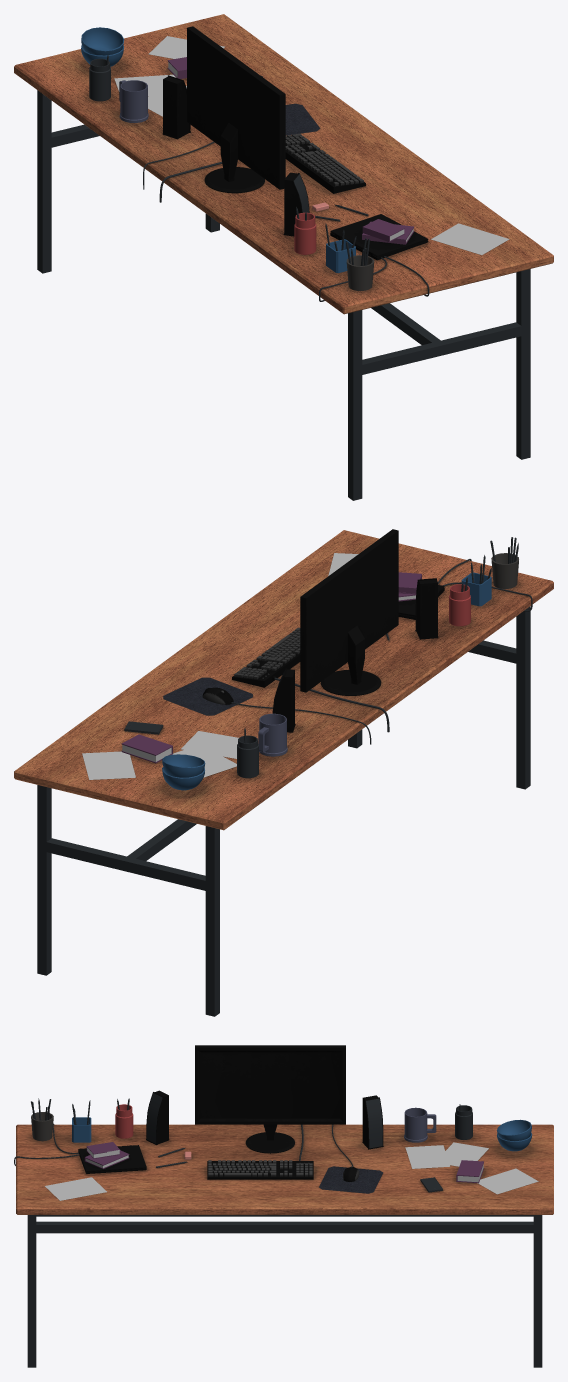
File: desk.dae
3 views of the same model, one above another, from view 1: azimuth 30°, elevation 25°; view 2: azimuth 150°, elevation 25°; view 3: azimuth 270°, elevation 25° (orthographic). The views are drawn at different scales.
Parts seen in each view (by area): view 1: Desk, Object001, PC_Monitor, Paper, PC_Speaker, PC_Keyboard, Notebook, Dish, Books, Object002, Object004, Object005 (+5 smaller); view 2: Desk, Object001, PC_Monitor, Paper, PC_Speaker, Mousepad, PC_Keyboard, Dish, Books, Object002, Object005, Object004 (+3 smaller); view 3: Desk, PC_Monitor, Object001, Paper, PC_Keyboard, Object007, Mousepad, Object009, PC_Speaker, Books, Notebook, Dish (+7 smaller).
Part boxes in pixels (bbox=[...]): Desk: bbox=[14, 14, 553, 314]; Object001: bbox=[37, 90, 530, 500]; PC_Monitor: bbox=[187, 26, 285, 193]; Paper: bbox=[114, 36, 509, 254]; PC_Speaker: bbox=[162, 75, 309, 236]; PC_Keyboard: bbox=[285, 133, 363, 186]; Notebook: bbox=[330, 214, 428, 260]; Dish: bbox=[81, 27, 124, 66]; Books: bbox=[167, 57, 414, 244]; Object002: bbox=[119, 80, 148, 122]; Object004: bbox=[294, 212, 316, 254]; Object005: bbox=[89, 58, 110, 101]; Desk: bbox=[14, 530, 553, 830]; Object001: bbox=[37, 606, 530, 1016]; PC_Monitor: bbox=[300, 529, 398, 695]; Paper: bbox=[82, 553, 358, 779]; PC_Speaker: bbox=[272, 578, 438, 732]; Mousepad: bbox=[163, 677, 252, 715]; PC_Keyboard: bbox=[234, 627, 300, 679]; Dish: bbox=[162, 754, 205, 790]; Books: bbox=[121, 572, 421, 763]; Object002: bbox=[258, 713, 287, 756]; Object005: bbox=[237, 735, 258, 778]; Object004: bbox=[449, 584, 470, 626]; Desk: bbox=[16, 1124, 553, 1214]; PC_Monitor: bbox=[195, 1045, 345, 1153]; Object001: bbox=[27, 1215, 542, 1367]; Paper: bbox=[45, 1142, 538, 1200]; PC_Keyboard: bbox=[208, 1160, 312, 1176]; Object007: bbox=[146, 1093, 382, 1148]; Mousepad: bbox=[319, 1166, 383, 1193]; Object009: bbox=[207, 1161, 313, 1179]; PC_Speaker: bbox=[146, 1090, 383, 1149]; Books: bbox=[84, 1142, 483, 1183]; Notebook: bbox=[78, 1145, 146, 1173]; Dish: bbox=[497, 1119, 532, 1151].
Bounding box in the file's own units: 86.77 × 226 × 122.
Materials: 1 (1 with a texture image).
